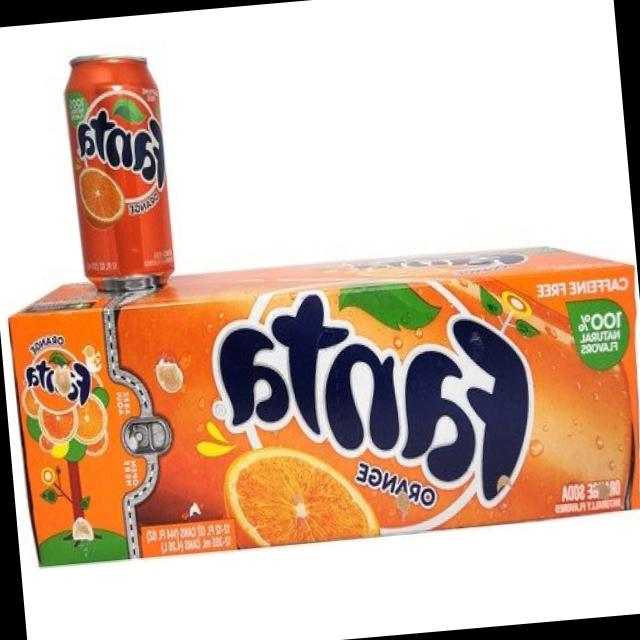fanta: (62, 53, 178, 294)
